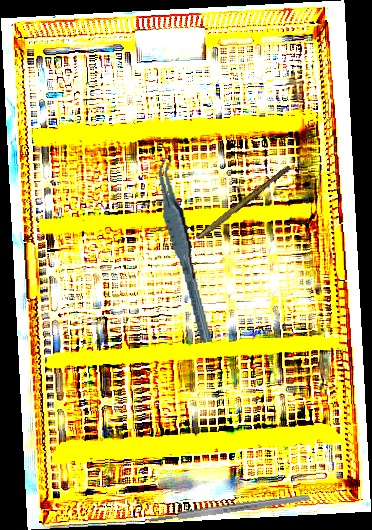Scalpel Handle: (195, 163, 292, 243), (148, 493, 311, 525)
Tissue Forceps: (155, 153, 213, 346)
